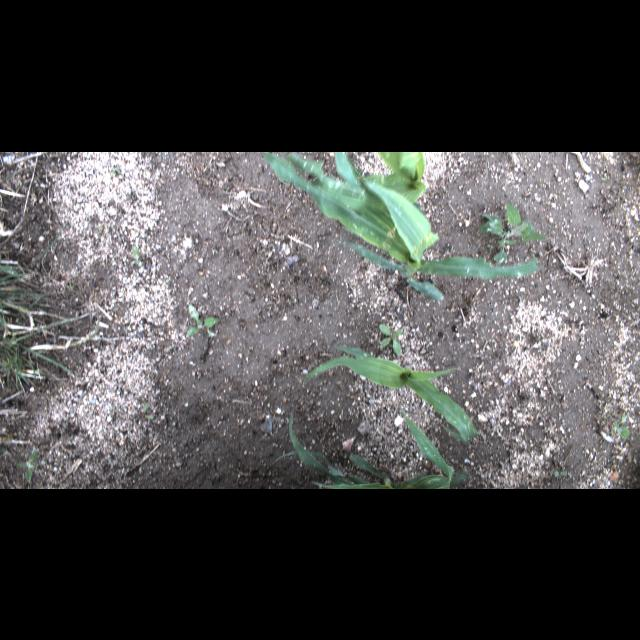crop: (257, 152, 541, 302), (304, 346, 480, 444), (274, 409, 468, 487), (376, 152, 426, 204)
weed: (1, 222, 94, 392), (480, 201, 548, 263), (180, 304, 220, 340), (376, 321, 406, 355), (609, 412, 635, 442), (20, 450, 40, 482), (2, 432, 15, 462), (140, 400, 156, 420), (130, 245, 142, 265), (550, 472, 574, 478), (112, 166, 120, 178), (482, 243, 496, 249)
